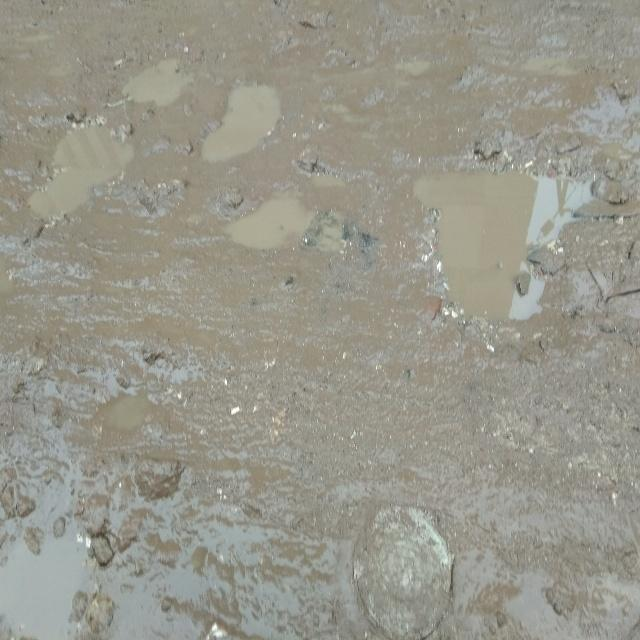Pothole: (419, 172, 567, 316), (44, 115, 137, 208), (204, 79, 278, 159), (120, 53, 188, 119), (242, 194, 302, 258)
Surface Erosion: (0, 0, 640, 640)
